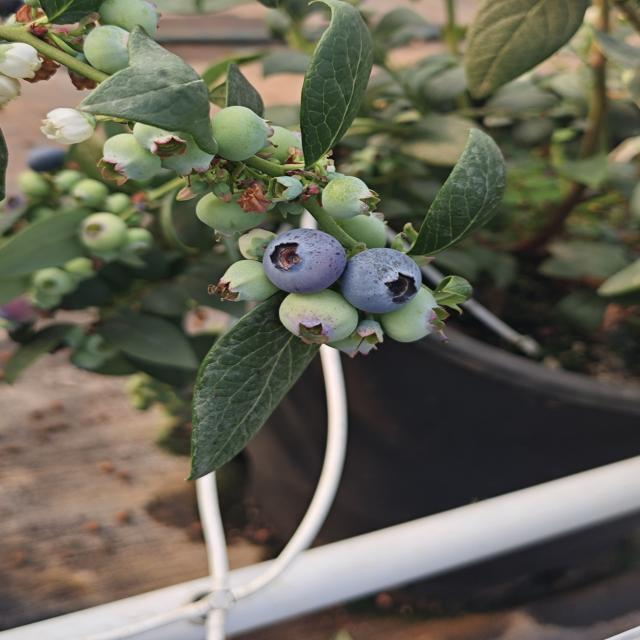ripe: (254, 225, 358, 298), (338, 243, 435, 317), (17, 136, 77, 177)
